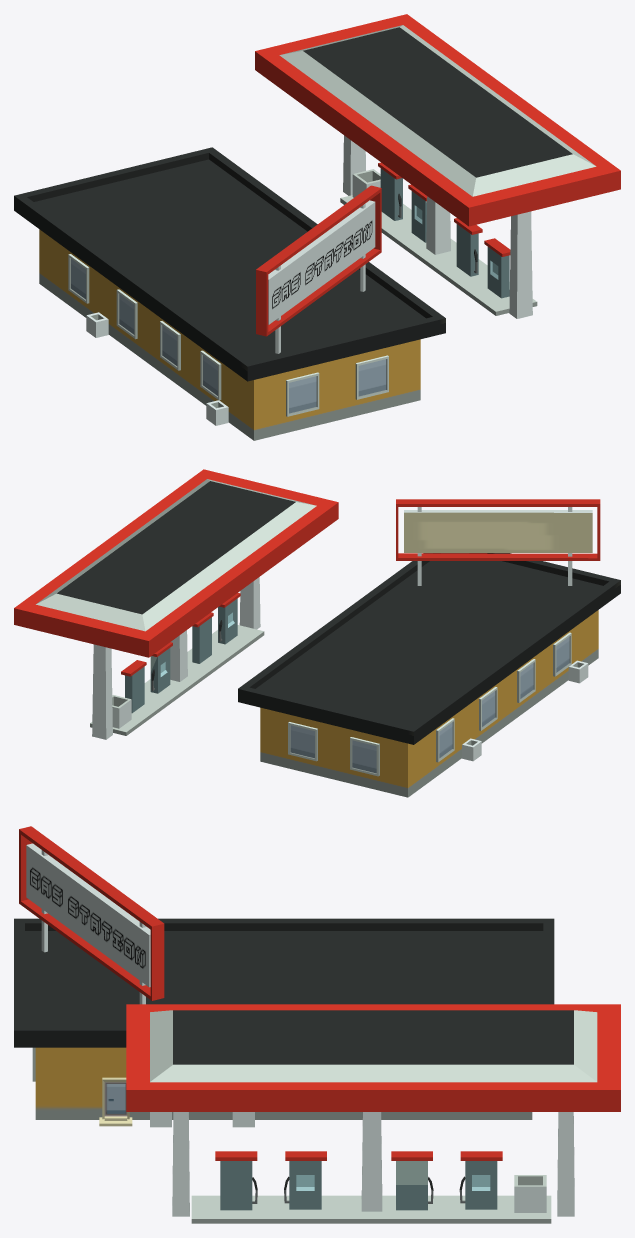
Rendered from Gas Station.fbx.
3 renders of one model, top to bottom at view 1: azimuth 30°, elevation 25°; view 2: azimuth 150°, elevation 25°; view 3: azimuth 270°, elevation 25°, orthographic. The views are drawn at different scales.
Parts seen in each view (by area): view 1: Gas Station; view 2: Gas Station; view 3: Gas Station.
Part boxes in pixels (<box>): Gas Station: <box>14,14,620,440</box>; Gas Station: <box>14,469,620,797</box>; Gas Station: <box>14,826,620,1223</box>.
Bounding box in the file's own units: 9.75 × 3.81 × 10.5.
